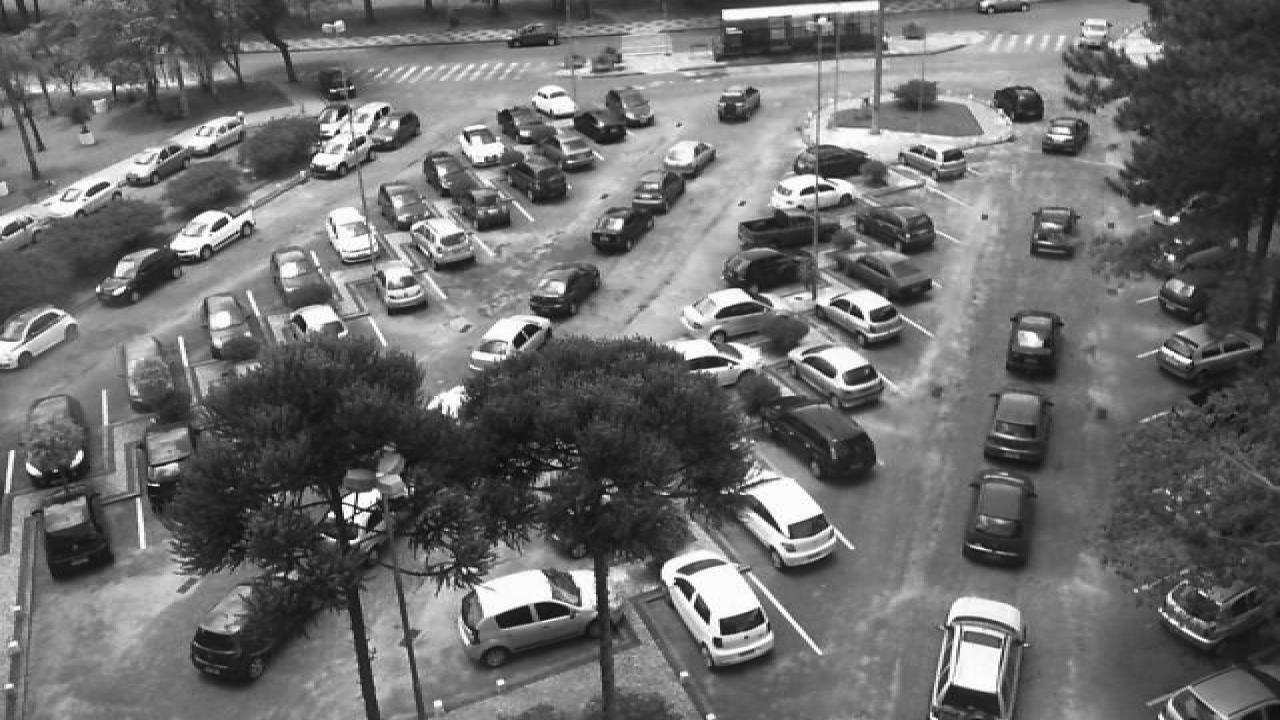Car: (456, 569, 600, 670), (188, 567, 310, 684), (658, 548, 774, 668), (716, 467, 840, 570), (764, 394, 878, 485), (1156, 562, 1264, 656), (40, 490, 116, 584), (1154, 324, 1266, 386), (786, 344, 886, 413), (18, 393, 88, 486), (812, 286, 904, 348), (96, 246, 184, 310), (680, 287, 780, 342), (836, 246, 934, 302), (166, 208, 258, 264), (0, 305, 78, 371), (144, 423, 200, 512), (470, 314, 554, 372), (124, 352, 188, 422), (198, 289, 260, 360), (720, 245, 806, 296), (674, 338, 756, 391), (856, 204, 940, 255), (528, 262, 600, 321), (738, 210, 840, 250), (408, 217, 476, 272), (270, 246, 330, 308), (324, 204, 384, 266), (374, 252, 430, 315), (772, 174, 862, 212), (120, 144, 196, 189), (504, 153, 572, 203), (588, 206, 656, 256), (306, 137, 380, 180), (452, 179, 512, 232), (376, 179, 432, 233), (1158, 269, 1210, 327), (54, 179, 126, 220), (896, 144, 972, 182), (790, 144, 870, 179), (180, 114, 246, 156), (284, 305, 348, 346), (364, 107, 420, 153), (628, 170, 684, 215), (422, 150, 474, 198), (566, 108, 630, 146), (496, 107, 556, 147), (544, 133, 602, 174), (604, 83, 656, 127), (662, 140, 718, 180), (458, 122, 506, 168), (306, 101, 358, 135), (532, 84, 576, 118), (348, 102, 392, 135)
